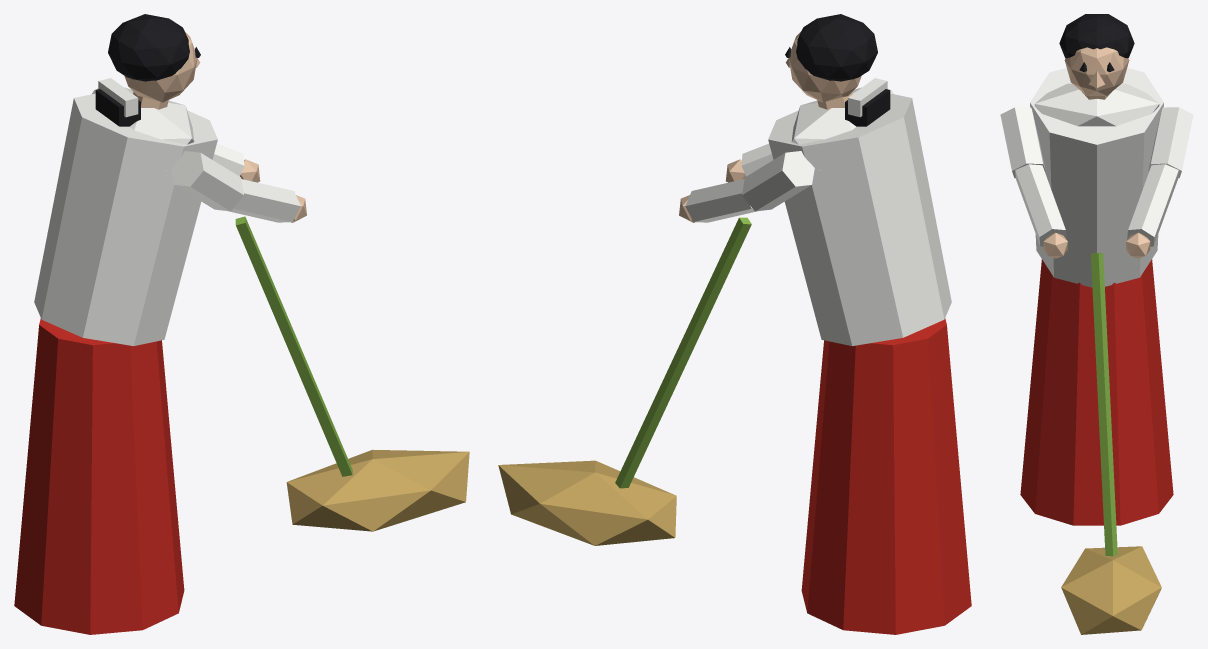
Rendered from miko.glb.
3 renders of one model, left to right at view 1: azimuth 30°, elevation 25°; view 2: azimuth 150°, elevation 25°; view 3: azimuth 270°, elevation 25°, orthographic. The views are drawn at different scales.
Parts seen in each view (by area): view 1: miko; view 2: miko; view 3: miko.
Boxes of the visible parts, x1,y1,x2,y2 form: miko: (14, 14, 469, 634); miko: (498, 14, 971, 634); miko: (1000, 14, 1193, 634).
Bounding box in the file's own units: 1.44 × 1.74 × 0.6056.
